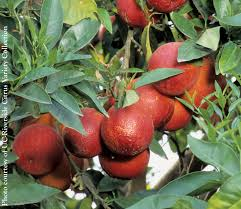orange: (106, 98, 155, 158)
